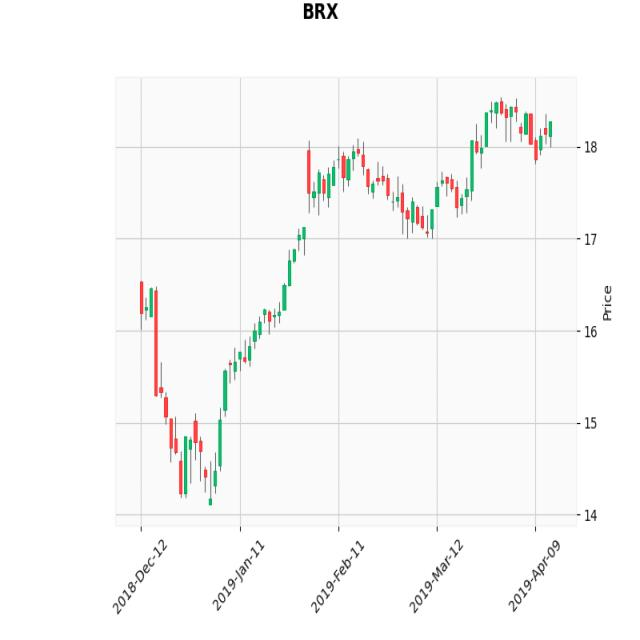Double-Bottom: (152, 369, 239, 512)
